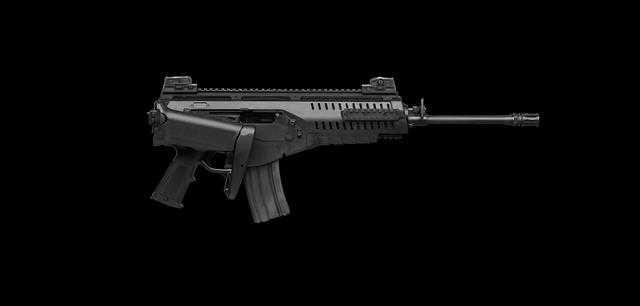heavyweapon: (121, 34, 556, 244)
